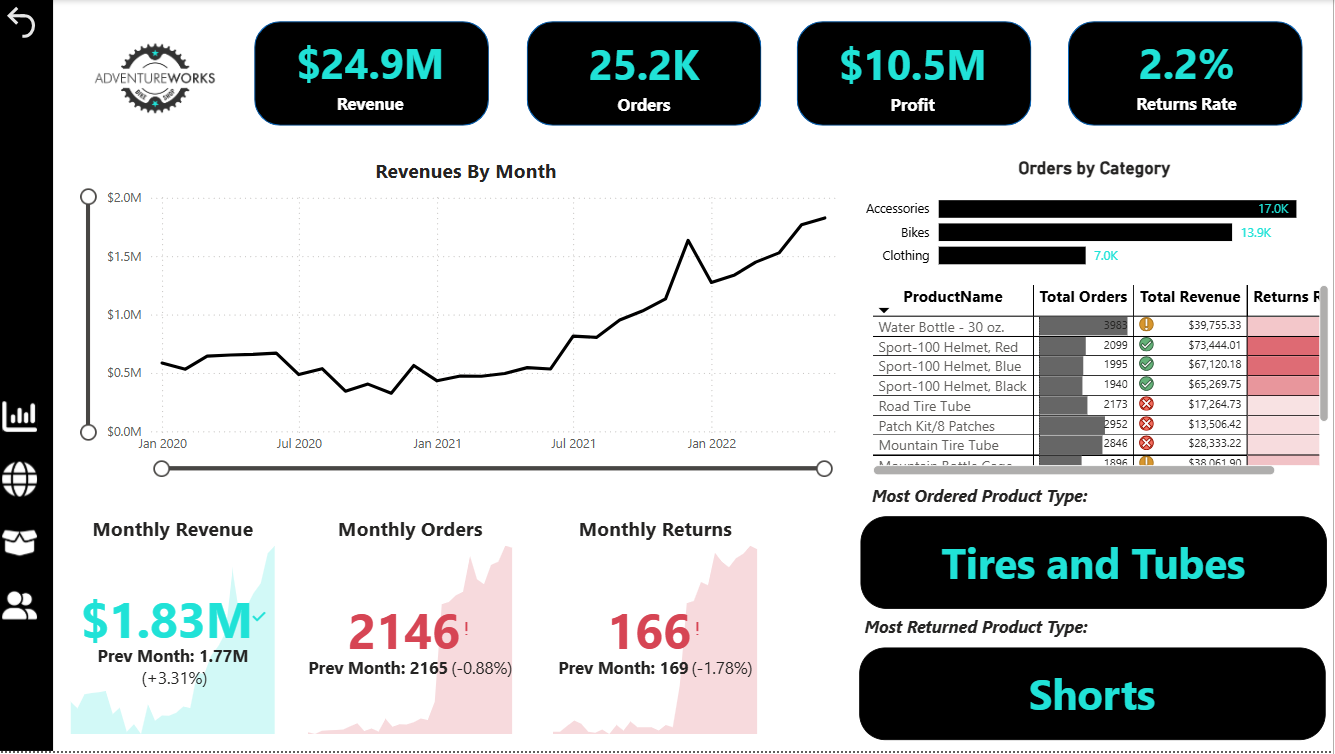

The page's visual inventory and layout, read from the dashboard file:
{"tool":"powerbi","page":{"name":"Executive Dashboard","canvas":[1280,720],"ordinal":0},"visuals":[{"type":"shape","box":[1025.9,20.9,225,100.2],"z":0},{"type":"shape","box":[766.2,20.9,225,100.2],"z":1000},{"type":"shape","box":[506.6,20.9,225,100.2],"z":2000},{"type":"shape","box":[245.9,20.9,225,100.2],"z":3000},{"type":"card","fields":{"Values":["Measure Table.Total Revenue"]},"box":[259.3,26.1,196.2,89.2],"z":4000},{"type":"card","fields":{"Values":["Measure Table.Total Profit"]},"box":[779.4,27.4,196.2,89.2],"z":5000},{"type":"card","fields":{"Values":["Measure Table.Total Orders"]},"box":[521.4,27.4,196.2,89.2],"z":6000},{"type":"card","fields":{"Values":["Measure Table.Returns Rate"]},"box":[1041.5,26.1,196.2,89.2],"z":7000},{"type":"image","box":[75.5,0,150.9,150.9],"z":8000},{"type":"shape","box":[0,0,52.9,720],"z":9000},{"type":"lineChart","title":"Revenues By Month","fields":{"Category":["Calendar Lookup.Start of Month"],"Y":["Measure Table.Total Revenue"]},"box":[75.5,150.9,746.5,308.7],"z":10000},{"type":"barChart","title":"Orders by Category","fields":{"Category":["Product Categories Lookup.CategoryName"],"Y":["Measure Table.Total Orders"]},"box":[822.1,151.2,458.1,117.4],"z":11000},{"type":"pivotTable","fields":{"Rows":["Product Lookup.ProductName"],"Values":["Measure Table.Total Orders","Measure Table.Total Revenue","Measure Table.Returns Rate"]},"box":[833.7,268.6,446.5,191.9],"z":12000},{"type":"kpi","title":"Monthly Revenue","fields":{"Indicator":["Measure Table.Total Revenue"],"TrendLine":["Calendar Lookup.Start of Month"],"Goal":["Measure Table.Previous Month Revenue"]},"box":[65.1,494.2,205.8,215.1],"z":13000},{"type":"kpi","title":"Monthly Orders","fields":{"TrendLine":["Calendar Lookup.Start of Month"],"Goal":["Measure Table.Previous Month Orders"],"Indicator":["Measure Table.Total Orders"]},"box":[291.9,494.2,205.8,215.1],"z":14000},{"type":"kpi","title":"Monthly Returns","fields":{"TrendLine":["Calendar Lookup.Start of Month"],"Goal":["Measure Table.Previous Month Returns"],"Indicator":["Measure Table.Total Returns"]},"box":[526.7,494.2,205.8,215.1],"z":15000},{"type":"card","fields":{"Values":["Min(Product Subcategories Lookup.SubcategoryName)"]},"box":[827,494.7,447.2,88.8],"z":16000},{"type":"card","fields":{"Values":["Min(Product Subcategories Lookup.SubcategoryName)"]},"box":[825.5,620.2,447.2,88.8],"z":17000},{"type":"textbox","box":[833.1,459.4,439.5,35.2],"z":19000},{"type":"textbox","box":[825.5,585,439.5,35.2],"z":20000},{"type":"actionButton","box":[2.9,1.4,100,40],"z":21000},{"type":"actionButton","box":[0,378.6,52.9,41.4],"z":22000},{"type":"actionButton","box":[0,439,52.9,41.4],"z":23000},{"type":"actionButton","box":[0,499.5,52.9,41.4],"z":24000},{"type":"actionButton","box":[0,560,52.9,41.4],"z":25000}]}

Visuals, with their boxes on the page's 1280x720 design canvas (x1, y1, x2, y2). These are canvas units, not pixel positions in the 1335x754 screenshot, which may show the page scaled, cropped or inside an application window:
shape: <region>1026, 21, 1251, 121</region>
shape: <region>766, 21, 991, 121</region>
shape: <region>507, 21, 732, 121</region>
shape: <region>246, 21, 471, 121</region>
card - Measure Table.Total Revenue: <region>259, 26, 456, 115</region>
card - Measure Table.Total Profit: <region>779, 27, 976, 117</region>
card - Measure Table.Total Orders: <region>521, 27, 718, 117</region>
card - Measure Table.Returns Rate: <region>1042, 26, 1238, 115</region>
image: <region>76, 0, 226, 151</region>
shape: <region>0, 0, 53, 720</region>
"Revenues By Month" lineChart: <region>76, 151, 822, 460</region>
"Orders by Category" barChart: <region>822, 151, 1280, 269</region>
pivotTable - Product Lookup.ProductName x Measure Table.Total Orders: <region>834, 269, 1280, 460</region>
"Monthly Revenue" kpi: <region>65, 494, 271, 709</region>
"Monthly Orders" kpi: <region>292, 494, 498, 709</region>
"Monthly Returns" kpi: <region>527, 494, 732, 709</region>
card - Min(Product Subcategories Lookup.SubcategoryName): <region>827, 495, 1274, 584</region>
card - Min(Product Subcategories Lookup.SubcategoryName): <region>826, 620, 1273, 709</region>
textbox: <region>833, 459, 1273, 495</region>
textbox: <region>826, 585, 1265, 620</region>
actionButton: <region>3, 1, 103, 41</region>
actionButton: <region>0, 379, 53, 420</region>
actionButton: <region>0, 439, 53, 480</region>
actionButton: <region>0, 500, 53, 541</region>
actionButton: <region>0, 560, 53, 601</region>
